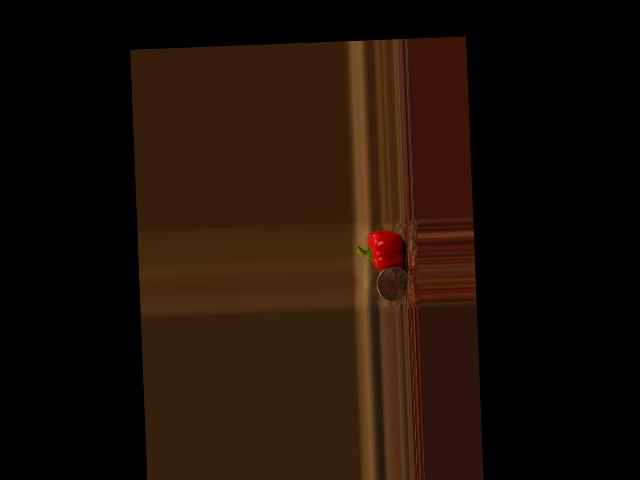bell_pepper: (355, 229, 407, 269)
